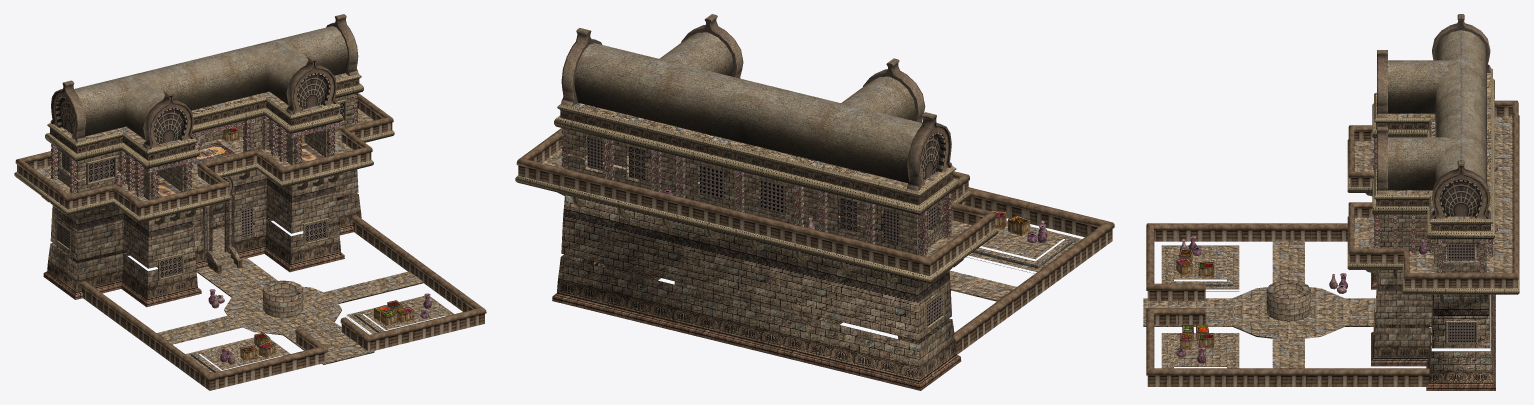
Rendered from maur_palace_large.dae.
The picture shows the model from 3 angles, left to right: view 1: azimuth 30°, elevation 25°; view 2: azimuth 150°, elevation 25°; view 3: azimuth 270°, elevation 25°; orthographic projection. The views are drawn at different scales.
Parts seen in each view (by area): view 1: maur_civic_centre; view 2: maur_civic_centre; view 3: maur_civic_centre.
Part boxes in pixels (box(x1,y1,x2,y2)): maur_civic_centre: box(14, 14, 486, 390); maur_civic_centre: box(515, 14, 1114, 390); maur_civic_centre: box(1143, 14, 1519, 390).
Size of the model in its own units: 32 by 29 by 19.05.
